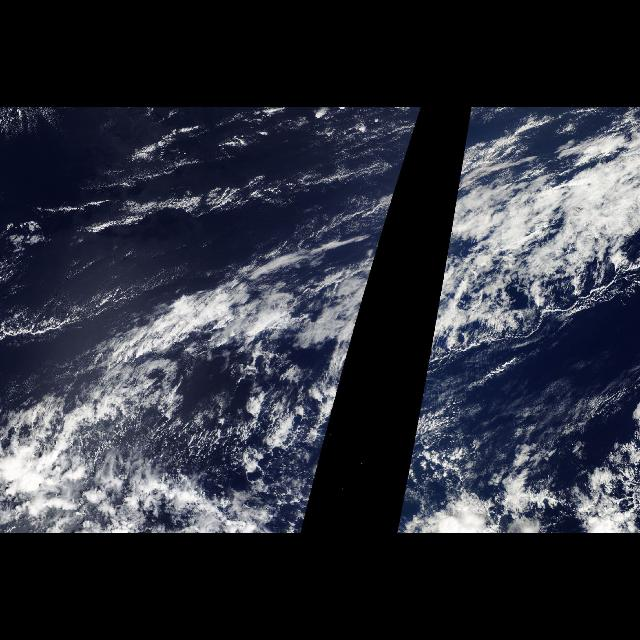Fish: (96, 300, 364, 382), (422, 300, 456, 382)
Sugar: (9, 114, 394, 296)
